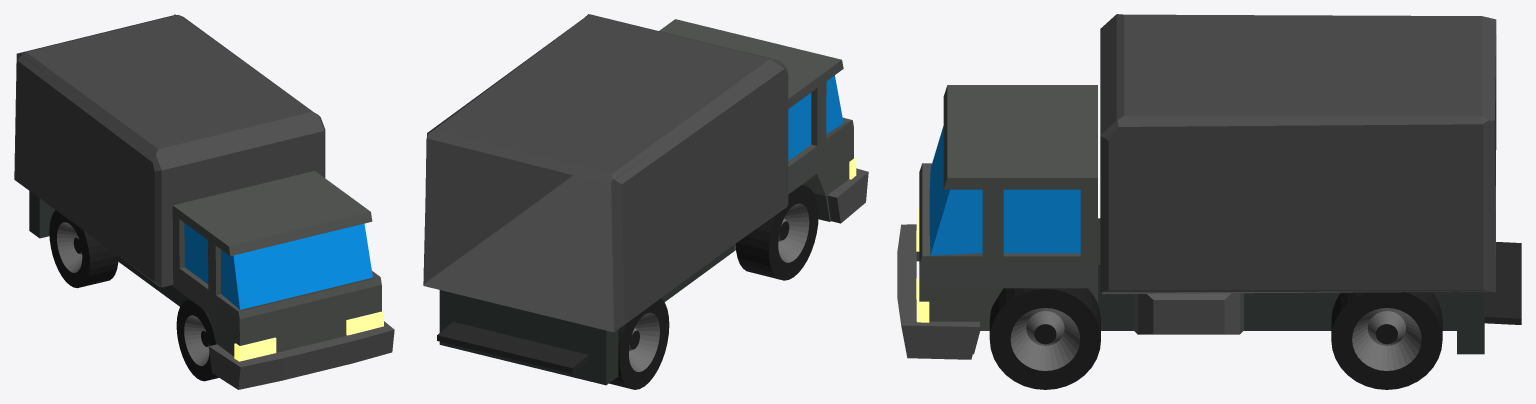
The model's file is PicKupTruck.fbx.
The picture shows the model from 3 angles, left to right: view 1: azimuth 30°, elevation 25°; view 2: azimuth 150°, elevation 25°; view 3: azimuth 270°, elevation 25°; orthographic projection. The views are drawn at different scales.
Visible parts, largest first — view 1: Плоскость.002, Плоскость, Окружность, Плоскость.004, Плоскость.001, Плоскость.005; view 2: Плоскость.002, Плоскость, Окружность, Плоскость.001, Куб, Плоскость.004; view 3: Плоскость.002, Плоскость, Окружность, Плоскость.001, Плоскость.004, Плоскость.003, Куб, Плоскость.005.
Part boxes in pixels (x1,y1,x2,y2): Плоскость.002: [14, 14, 325, 287]; Плоскость: [172, 171, 381, 361]; Окружность: [49, 210, 218, 381]; Плоскость.004: [208, 321, 394, 389]; Плоскость.001: [29, 191, 189, 306]; Плоскость.005: [234, 310, 383, 361]; Плоскость.002: [423, 14, 788, 332]; Плоскость: [659, 19, 853, 251]; Окружность: [609, 185, 818, 389]; Плоскость.001: [439, 245, 733, 385]; Куб: [437, 322, 588, 373]; Плоскость.004: [827, 168, 868, 223]; Плоскость.002: [1100, 14, 1496, 294]; Плоскость: [919, 85, 1097, 354]; Окружность: [989, 288, 1442, 389]; Плоскость.001: [1098, 218, 1484, 354]; Плоскость.004: [897, 224, 979, 359]; Плоскость.003: [1133, 293, 1243, 334]; Куб: [1484, 242, 1521, 324]; Плоскость.005: [916, 208, 929, 322].
Size of the model in its own units: 296 by 347 by 698.
